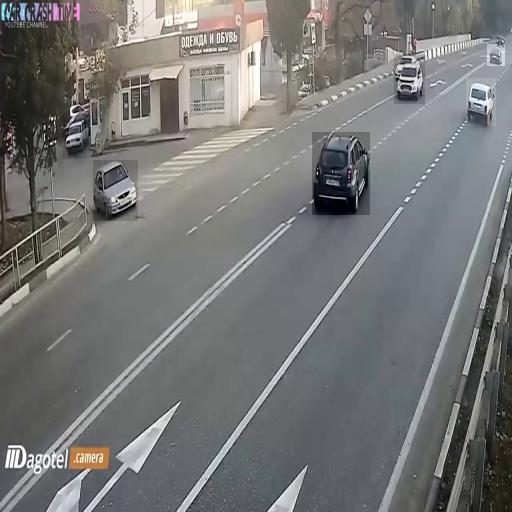小汽车: (312, 132, 370, 215), (93, 160, 138, 221), (394, 55, 425, 104), (466, 78, 496, 126), (63, 118, 87, 159), (487, 44, 505, 66)
